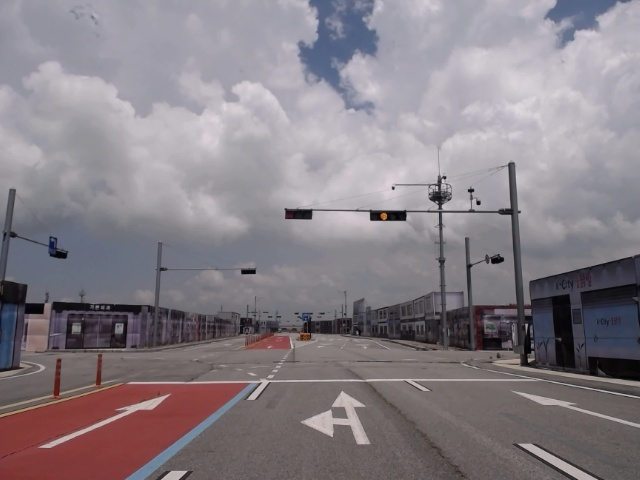orange_4: (370, 211, 407, 221)
